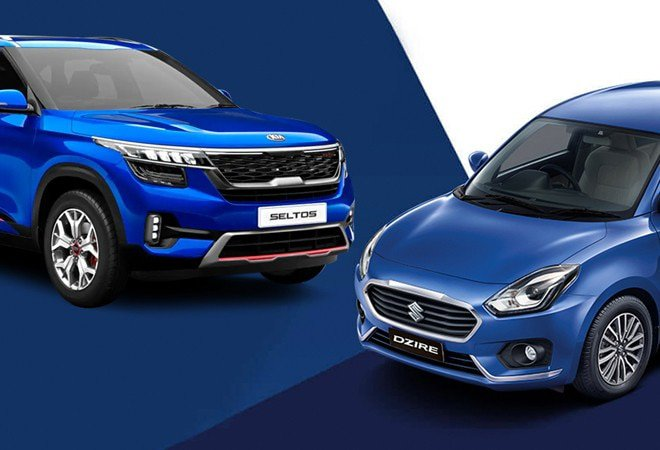car: (1, 40, 354, 308), (364, 79, 657, 394)
